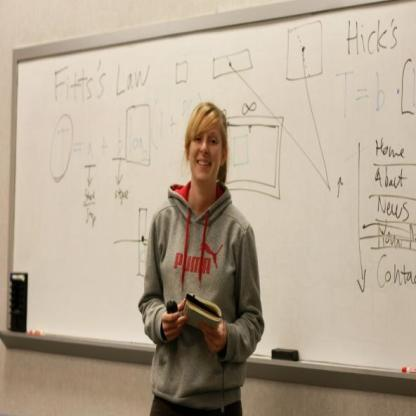Handwritten text: (46, 59, 156, 103), (342, 18, 401, 63), (372, 251, 414, 297), (369, 135, 410, 164), (372, 165, 408, 195), (373, 198, 412, 223), (370, 73, 391, 118), (338, 70, 355, 123)
Lecturer: (137, 97, 267, 386)
